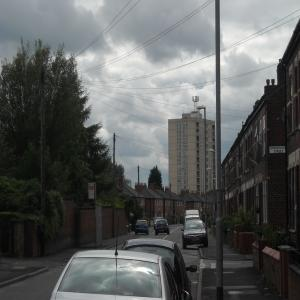Vehicle-registration-plate: (192, 240, 200, 243)
